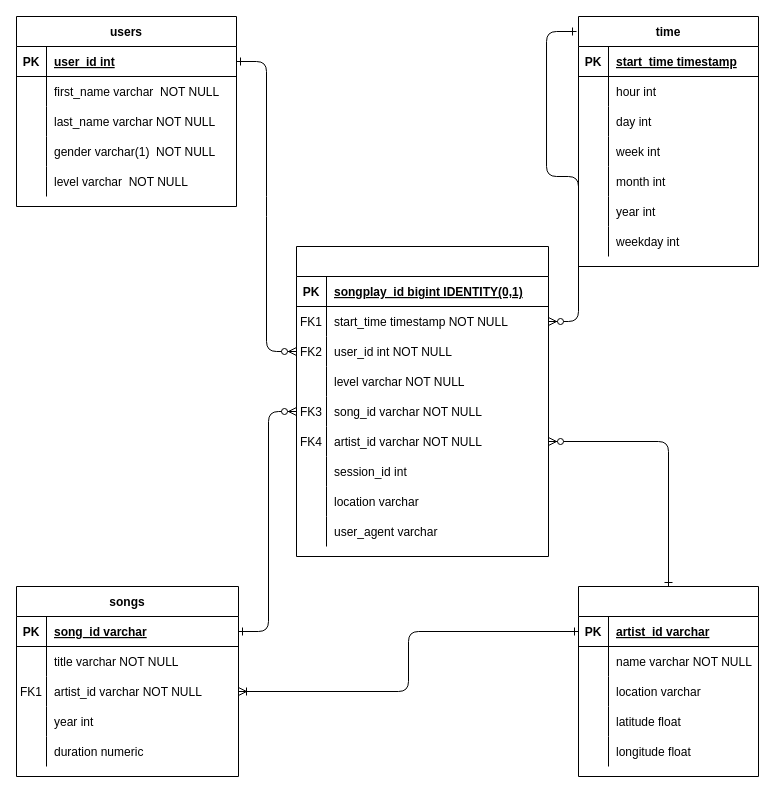
This 775x793 diagram has some shape labels left out. The box of each missing label's shape, as (x1, y1, x2, y2) in pixels:
artists: (578, 586, 758, 776)
songplays: (296, 246, 548, 556)
